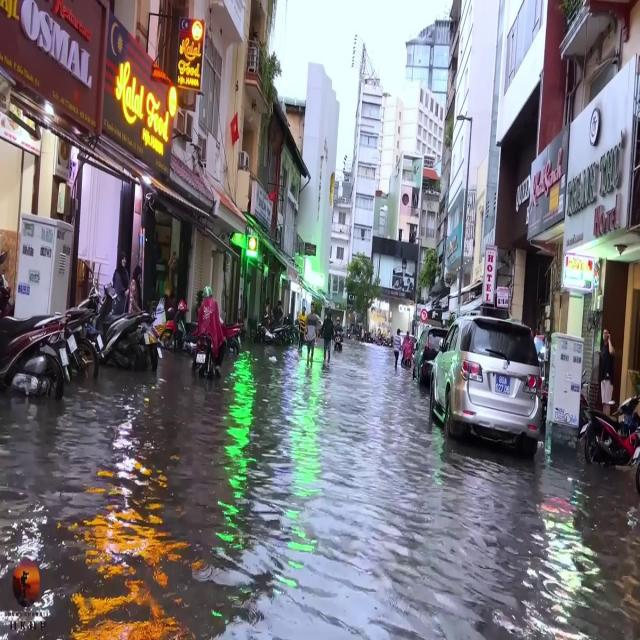bien_xanh: (494, 374, 510, 395)
